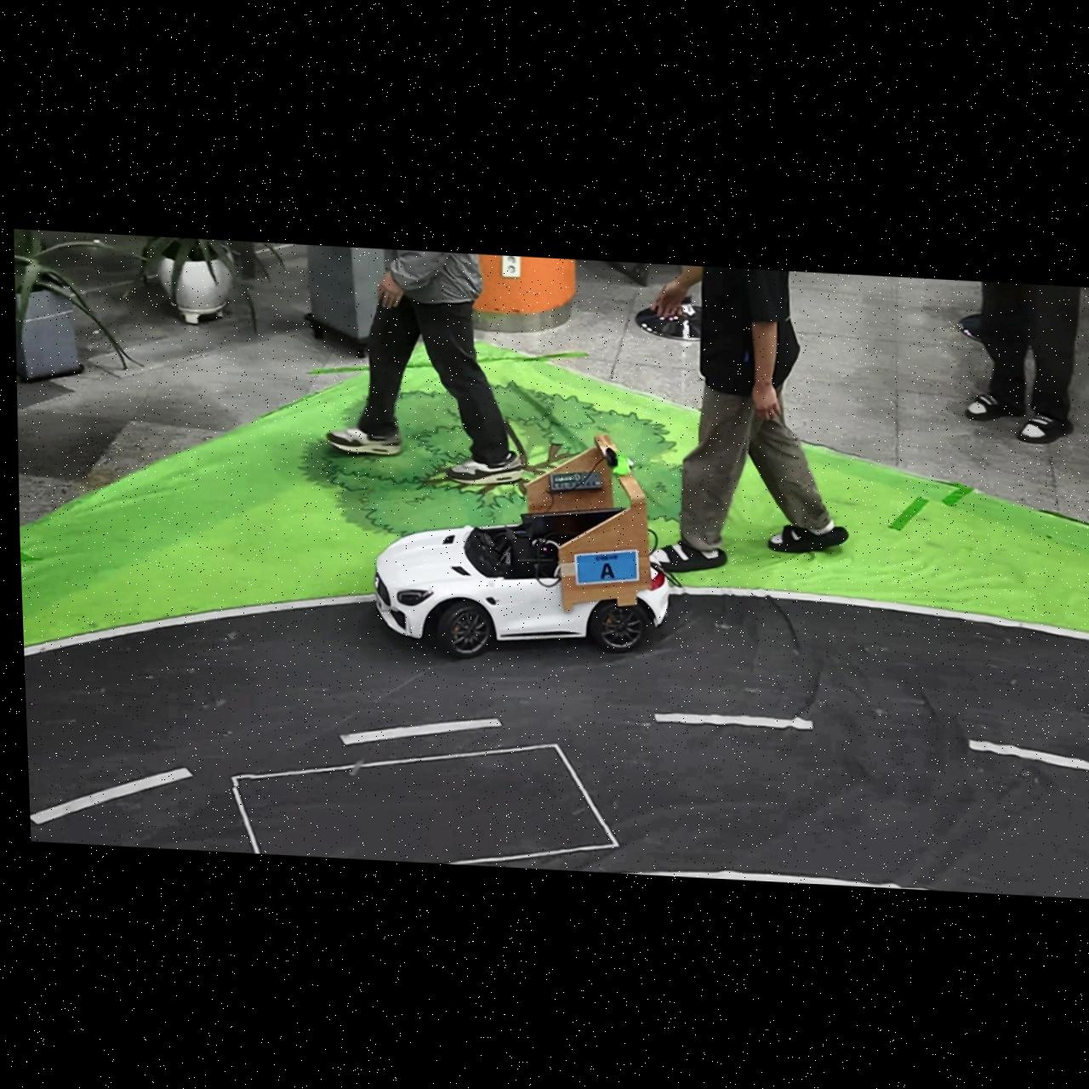broken_line: (30, 768, 192, 824), (340, 718, 501, 745), (968, 740, 1089, 772), (654, 713, 813, 730)
